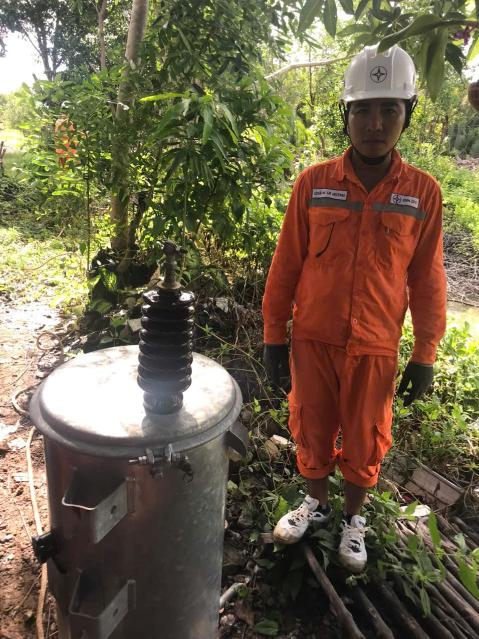gloves: (248, 326, 302, 399), (392, 342, 440, 416)
helmet: (334, 43, 429, 110)
shoes: (275, 471, 337, 554), (338, 510, 372, 572)
